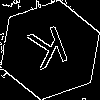K: (25, 25, 75, 80)
